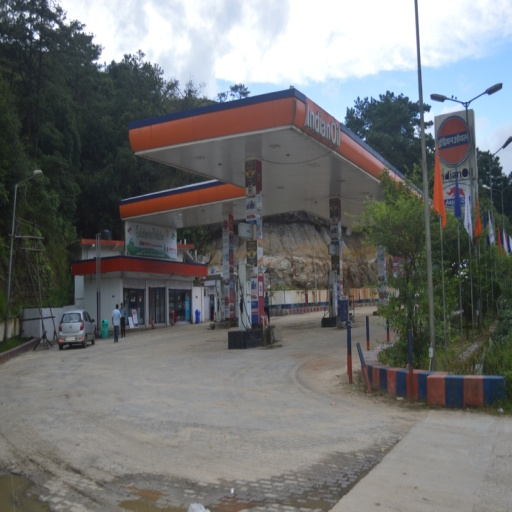roof: (104, 89, 434, 214)
